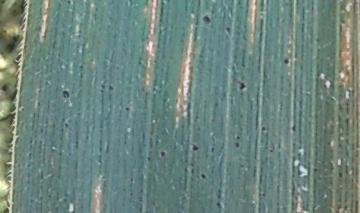tarspot: (201, 13, 212, 27), (236, 79, 247, 92), (351, 1, 359, 16), (61, 89, 71, 100), (267, 142, 276, 154), (190, 142, 199, 151), (282, 56, 290, 65), (233, 141, 241, 150), (224, 25, 231, 35), (290, 123, 297, 133), (123, 105, 131, 113), (199, 172, 207, 180), (215, 193, 222, 202), (159, 150, 166, 158), (63, 121, 70, 129), (137, 55, 142, 66), (107, 84, 114, 91), (99, 83, 106, 90), (216, 187, 223, 194), (235, 133, 241, 141), (57, 150, 63, 158), (214, 201, 222, 207), (260, 125, 266, 132), (337, 171, 343, 178), (210, 146, 215, 154), (146, 156, 152, 162), (98, 88, 104, 94), (312, 167, 318, 173), (78, 64, 84, 70), (183, 166, 188, 173)
